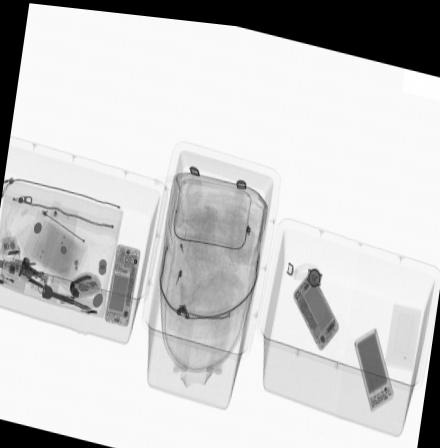Lighter: (0, 272, 26, 294)
